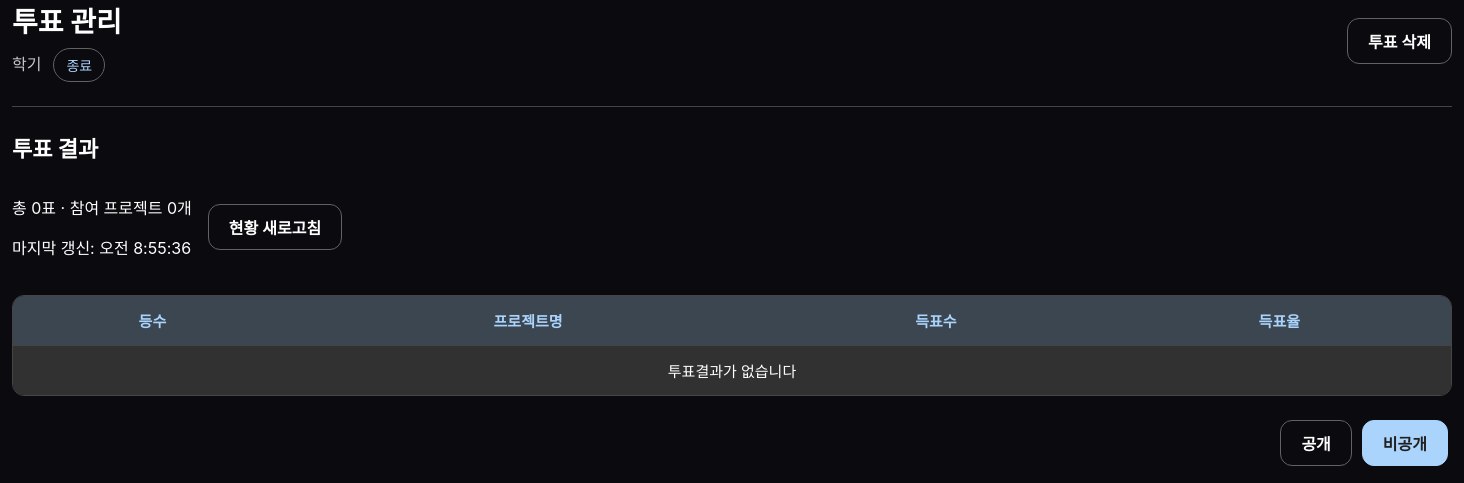
삭제 후 늦게 실패한 공개 여부 조회가 생성 화면을 가리지 않는다
Click the button "투표 삭제". click: [1400, 41]
box: [1347,18,1452,64]
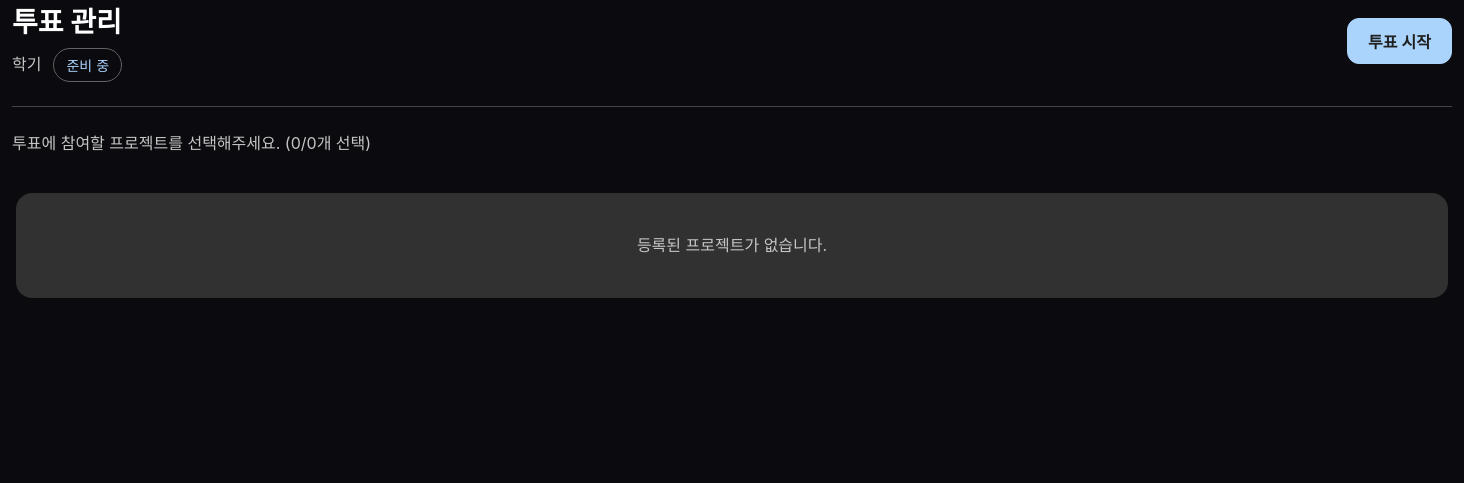
Now the button "투표 시작" is shown, box [1347,18,1452,64]
